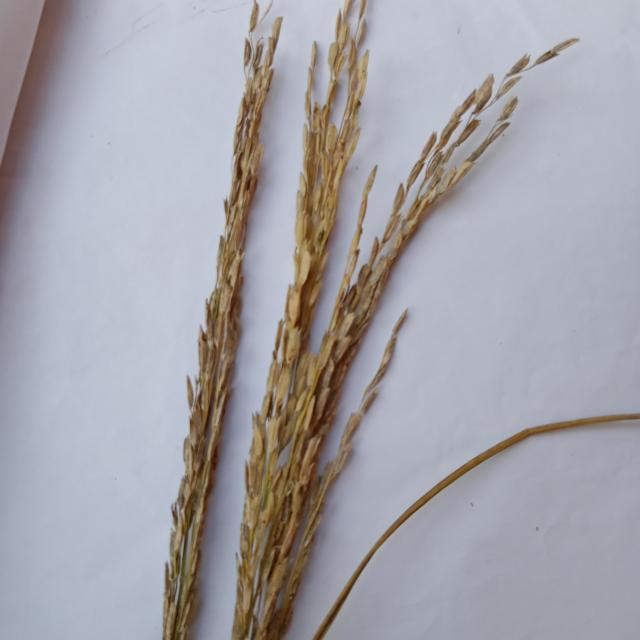Neck_Blast: (237, 104, 385, 633), (163, 62, 274, 640)
